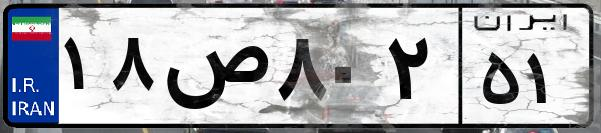0: (330, 28, 385, 110)
1: (57, 26, 110, 100), (525, 38, 570, 115)
2: (385, 28, 445, 110)
5: (475, 38, 525, 113)
8: (270, 28, 330, 110), (110, 28, 158, 98)
ص: (158, 20, 270, 120)
